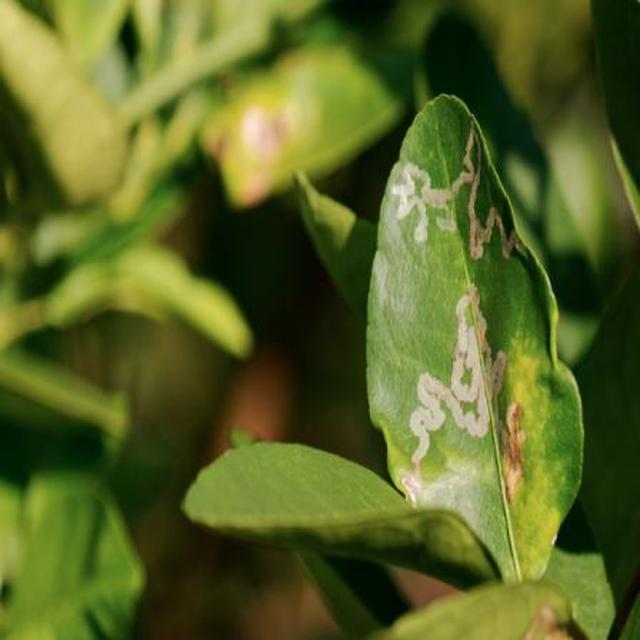Leaf Miner: (480, 159, 640, 640)
